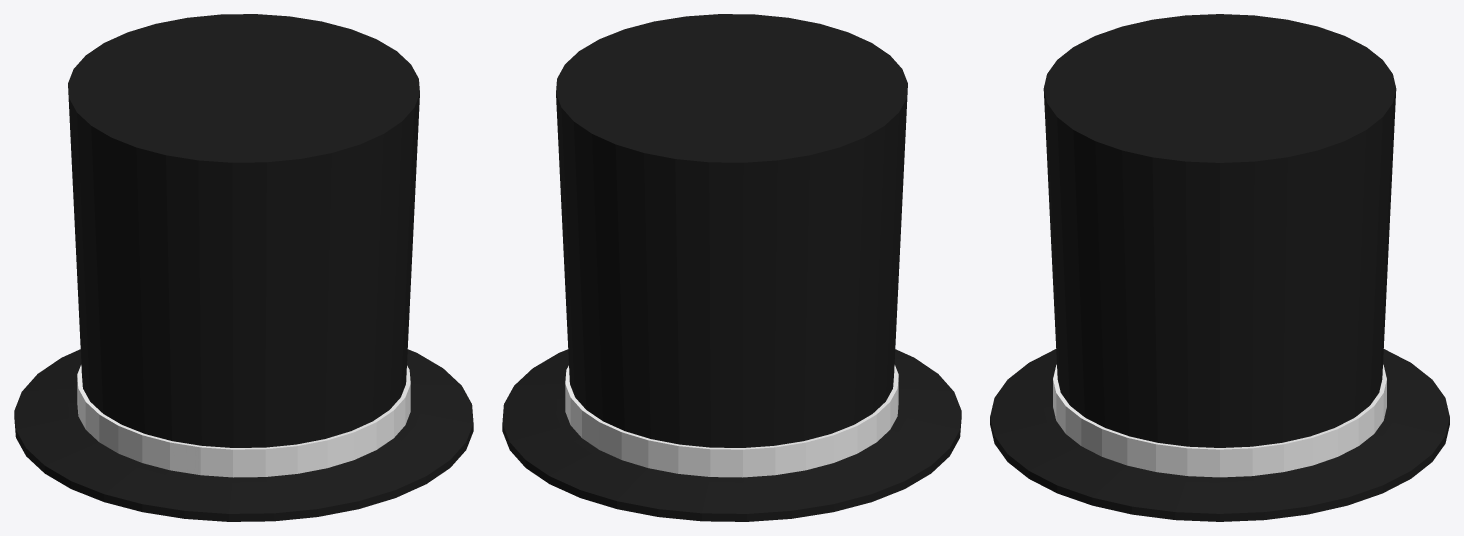
Rendered from top_hat.gltf.
The picture shows the model from 3 angles, left to right: view 1: azimuth 30°, elevation 25°; view 2: azimuth 150°, elevation 25°; view 3: azimuth 270°, elevation 25°; orthographic projection.
Parts seen in each view (by area): view 1: Cylinder, Cylinder.001; view 2: Cylinder, Cylinder.001; view 3: Cylinder, Cylinder.001.
Boxes of the visible parts, <box> form: Cylinder: <box>14,14,473,521</box>; Cylinder.001: <box>77,365,410,477</box>; Cylinder: <box>502,14,961,521</box>; Cylinder.001: <box>565,365,898,477</box>; Cylinder: <box>990,14,1449,521</box>; Cylinder.001: <box>1053,364,1386,477</box>.
Bounding box in the file's own units: 2.61 × 2.1 × 2.61.
Materials: 2 (2 with a texture image).
